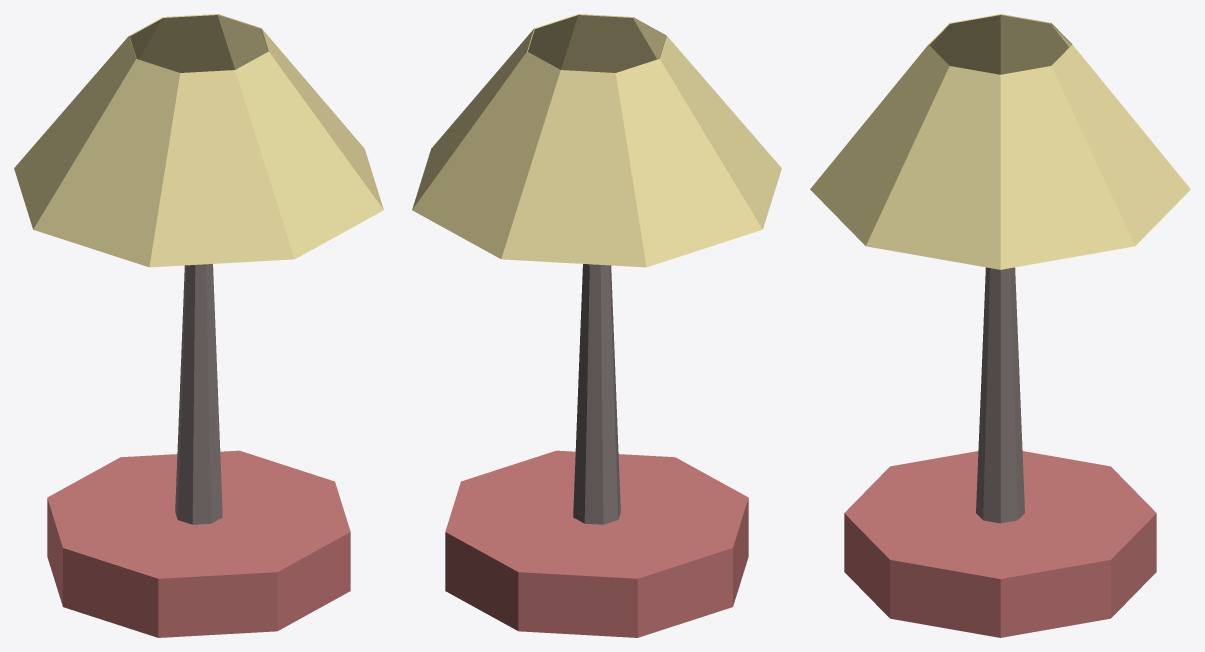
Rendered from Lamp.fbx.
The picture shows the model from 3 angles, left to right: view 1: azimuth 30°, elevation 25°; view 2: azimuth 150°, elevation 25°; view 3: azimuth 270°, elevation 25°; orthographic projection.
Visible parts, largest first — view 1: Lamp; view 2: Lamp; view 3: Lamp.
Part boxes in pixels (bbox=[...]): Lamp: bbox=[14, 14, 383, 637]; Lamp: bbox=[412, 14, 781, 637]; Lamp: bbox=[810, 14, 1190, 637].
Size of the model in its own units: 77.01 by 118 by 77.01.
